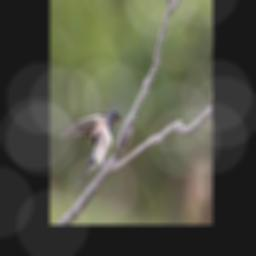Swallow: (60, 108, 124, 188)
